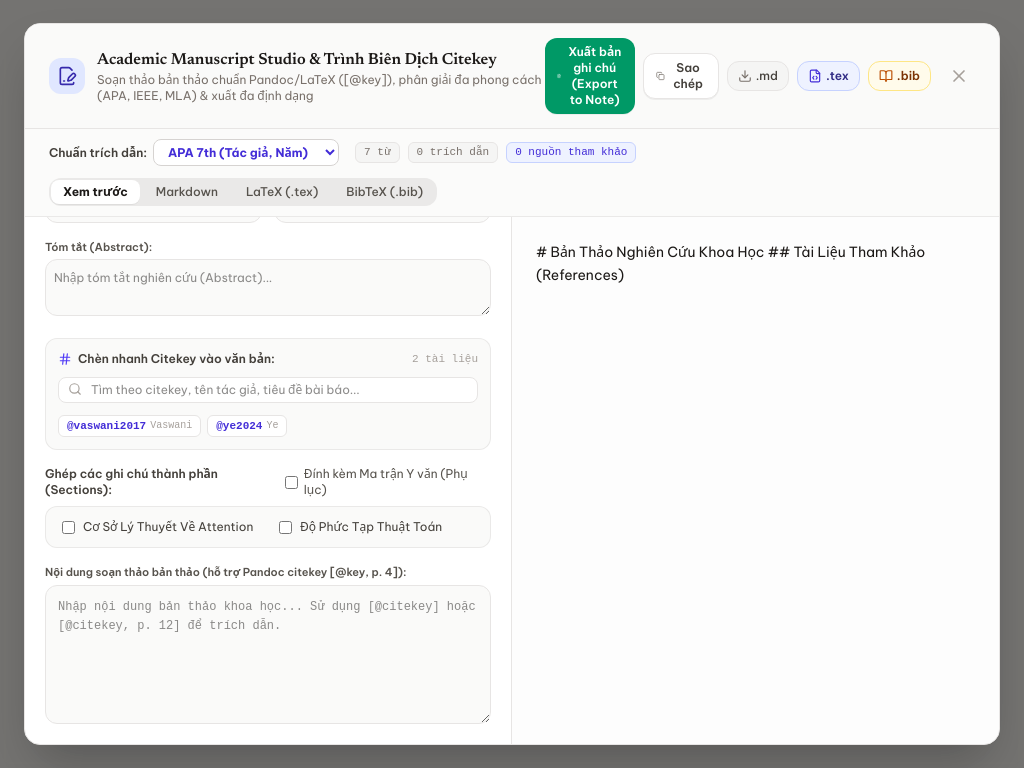
Test: Phase 9B: Academic Manuscript Studio UI Integration › 1. Biên dịch trực tiếp bản thảo, hiển thị số liệu thống kê và chuyển đổi định dạng APA sang IEEE
This screenshot has width=1024, height=768.
(page scrolled)
Note: Type body with APA citation
Replace the text in the text box with test id "manuscript-body-textarea" with "Theo nghiên cứu kinh điển [@vaswani2017, p. 4], mô hình Transformer rất vượt trội.". click: (268, 654)
box: [45, 584, 491, 724]
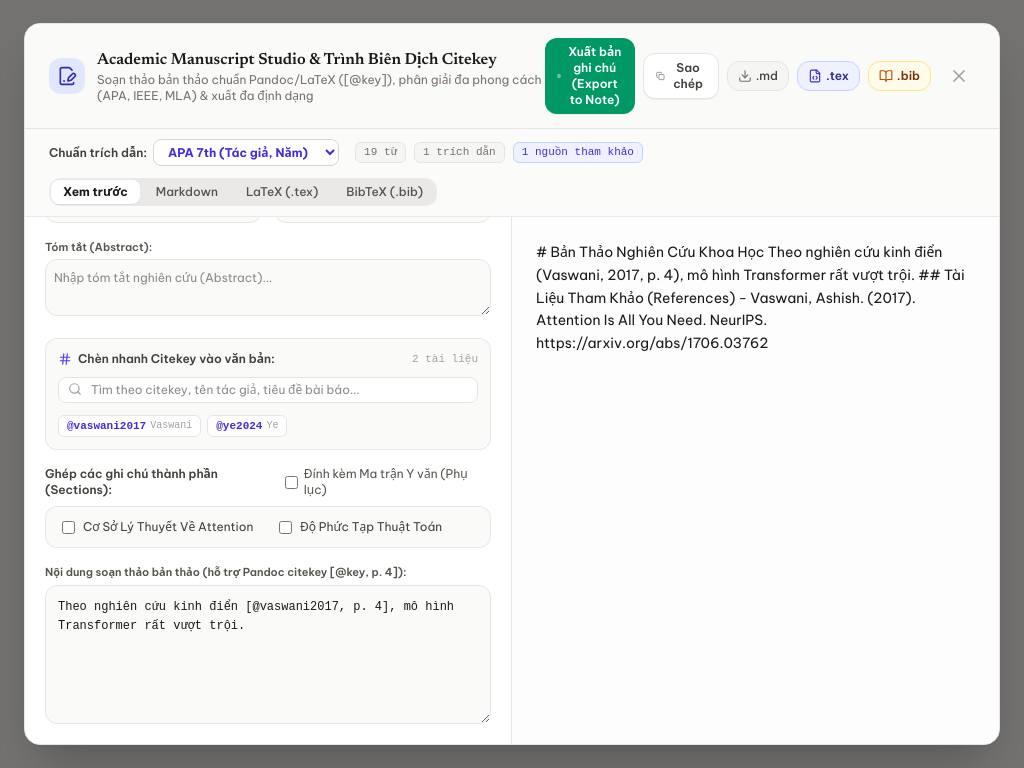
Expected: the element with test id "manuscript-compiled-preview" shows "Tài Liệu Tham Khảo (References)", [536, 243, 965, 352]
Result: the element with test id "manuscript-compiled-preview" shows "(Vaswani, 2017, p. 4)" at [536, 243, 965, 352]
Result: the element with test id "manuscript-compiled-preview" shows "Vaswani, Ashish" at [536, 243, 965, 352]
Note: Switch style to IEEE
Select "IEEE (Đánh số [1], [2])" in the dropdown with test id "manuscript-style-select". click: (246, 152)
box: [153, 139, 339, 166]
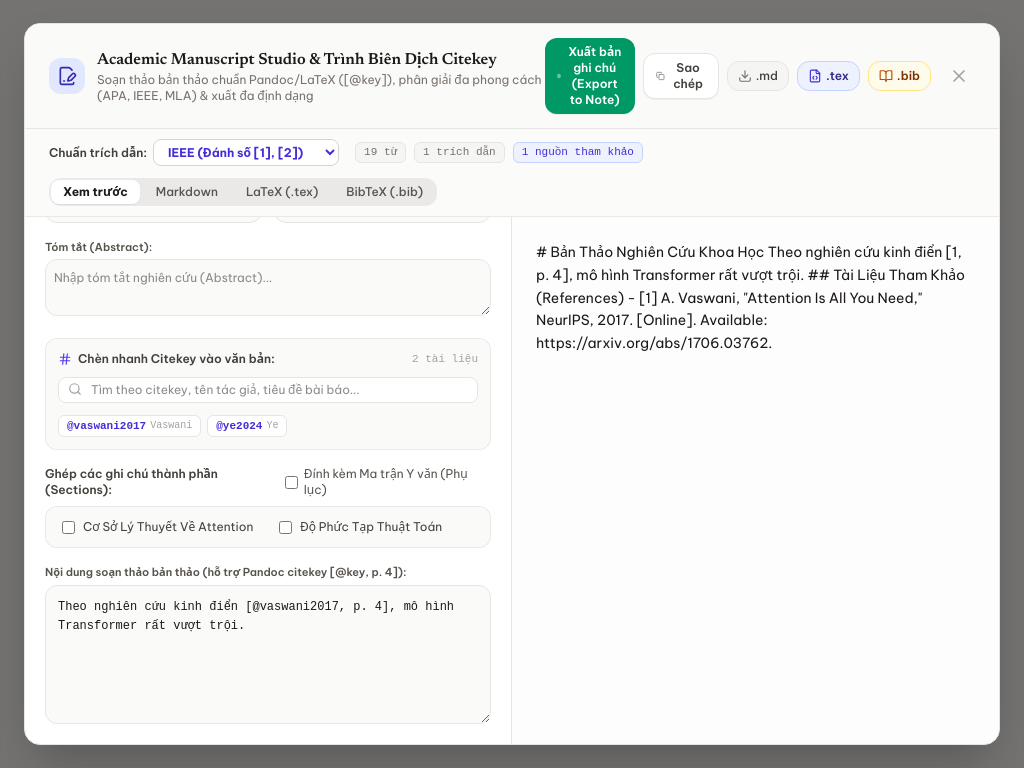
Expected: the element with test id "manuscript-compiled-preview" shows "[1, p. 4]", [536, 243, 965, 352]
Result: the element with test id "manuscript-compiled-preview" shows "[1]" at [536, 243, 965, 352]
Result: the element with test id "manuscript-compiled-preview" no longer shows "(Vaswani, 2017" at [536, 241, 975, 355]
